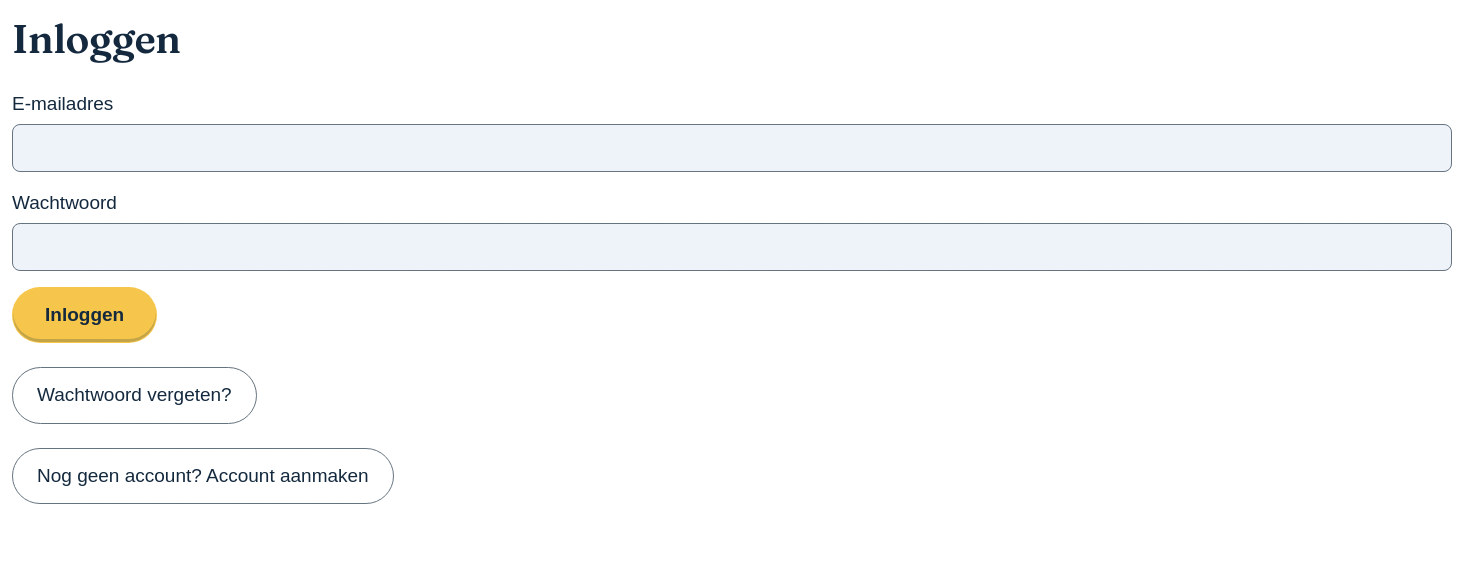
Test: the sign-in view › shows the API's own sentence on a wrong password
Type "iemand@voorbeeld.nl" into the field labelled "E-mailadres" at (732, 148), box left=12, top=124, right=1452, bottom=172
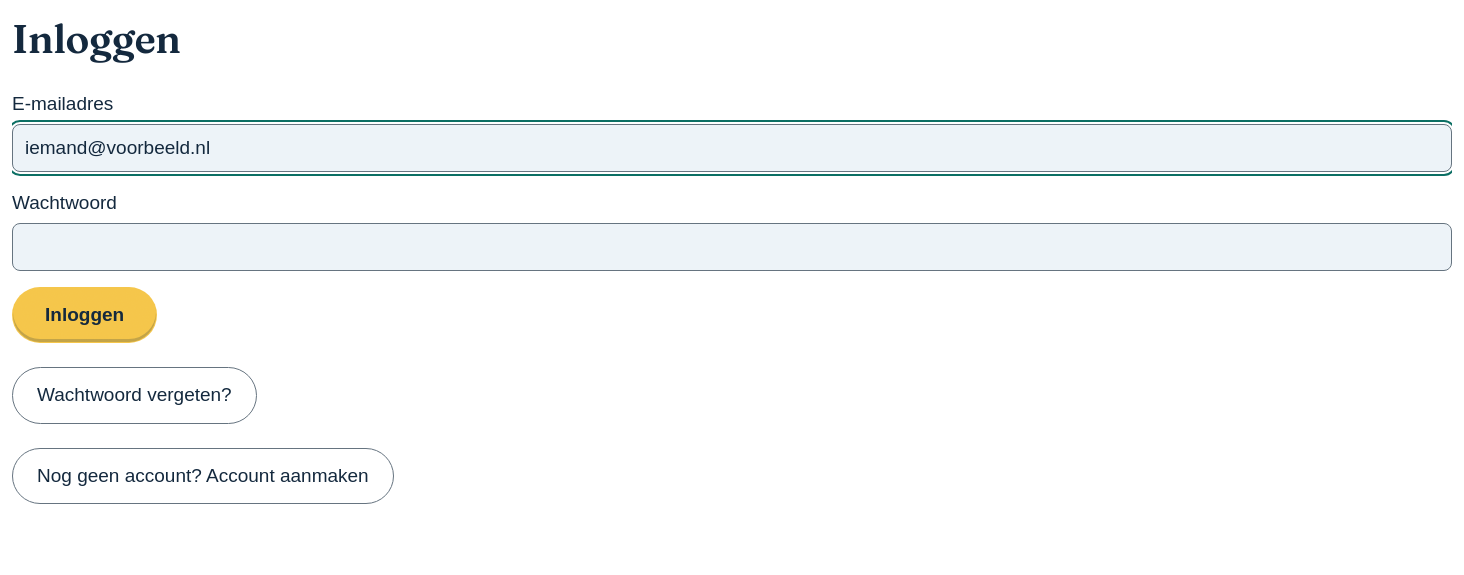
Type "verkeerd" into the password field labelled "Wachtwoord" at (732, 247), box left=12, top=222, right=1452, bottom=271
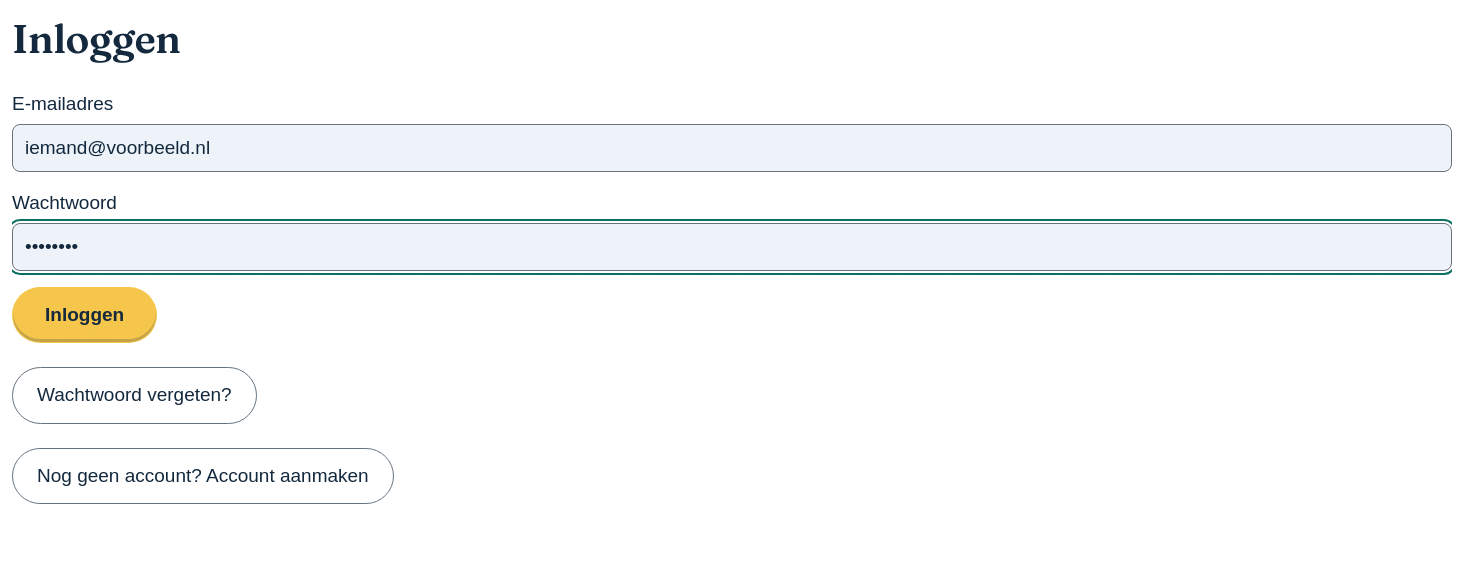
Click the button "Inloggen" at (85, 315), box left=12, top=287, right=157, bottom=343
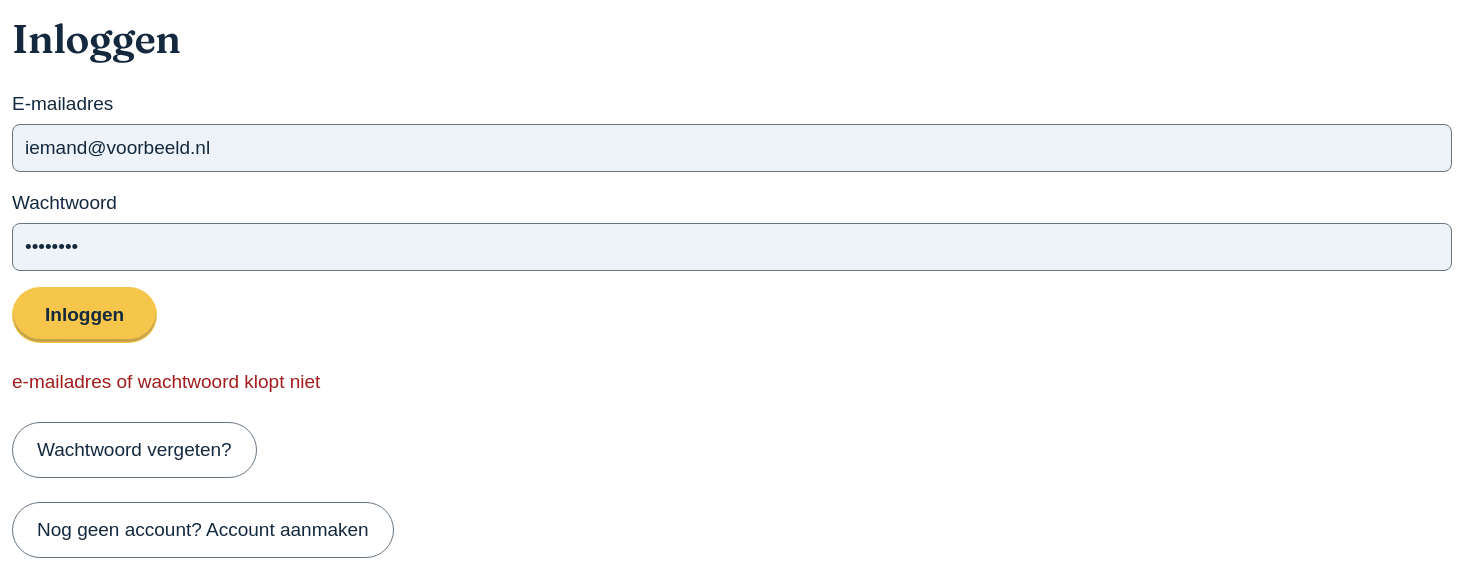
Expected: the message reads "e-mailadres of wachtwoord klopt niet", left=12, top=371, right=320, bottom=392
